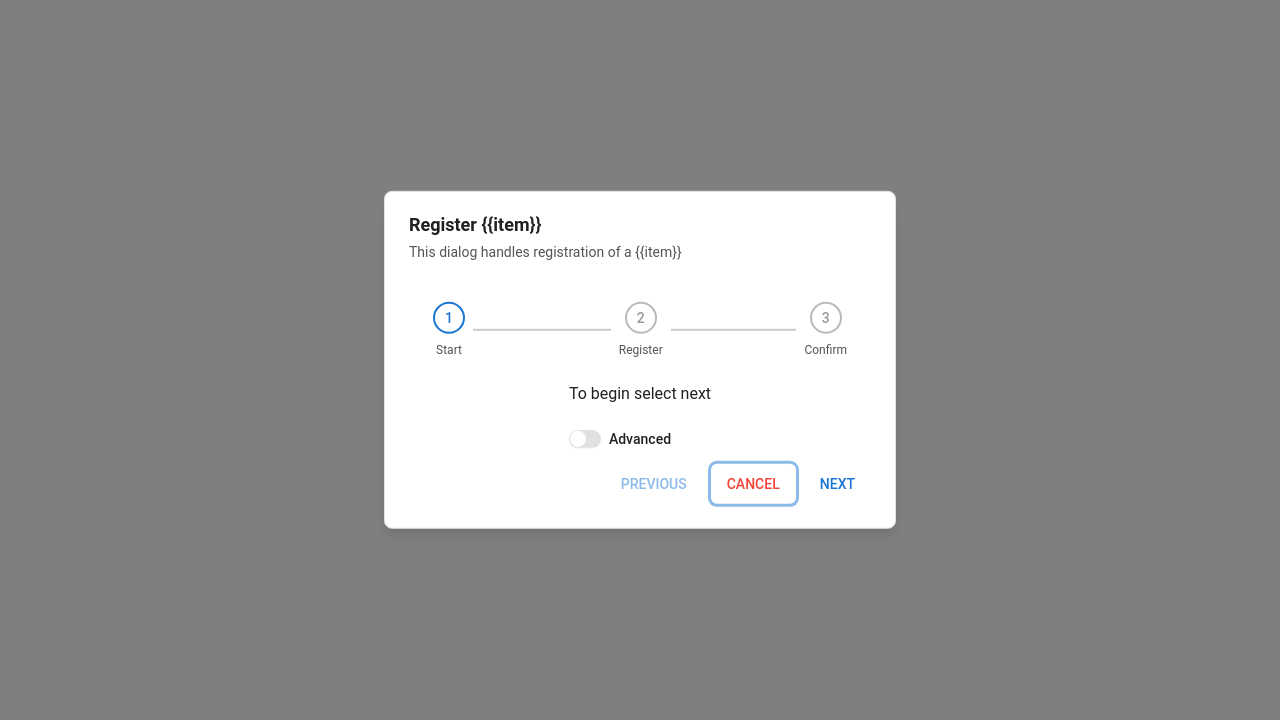
advanced options › reveals the algorithm, length and period pickers
Expected: the text "To begin select next" is shown, [569,382,711,406]
Click the switch with id "one-time-password-advanced".
click(585, 439)  # box [569,430,601,448]
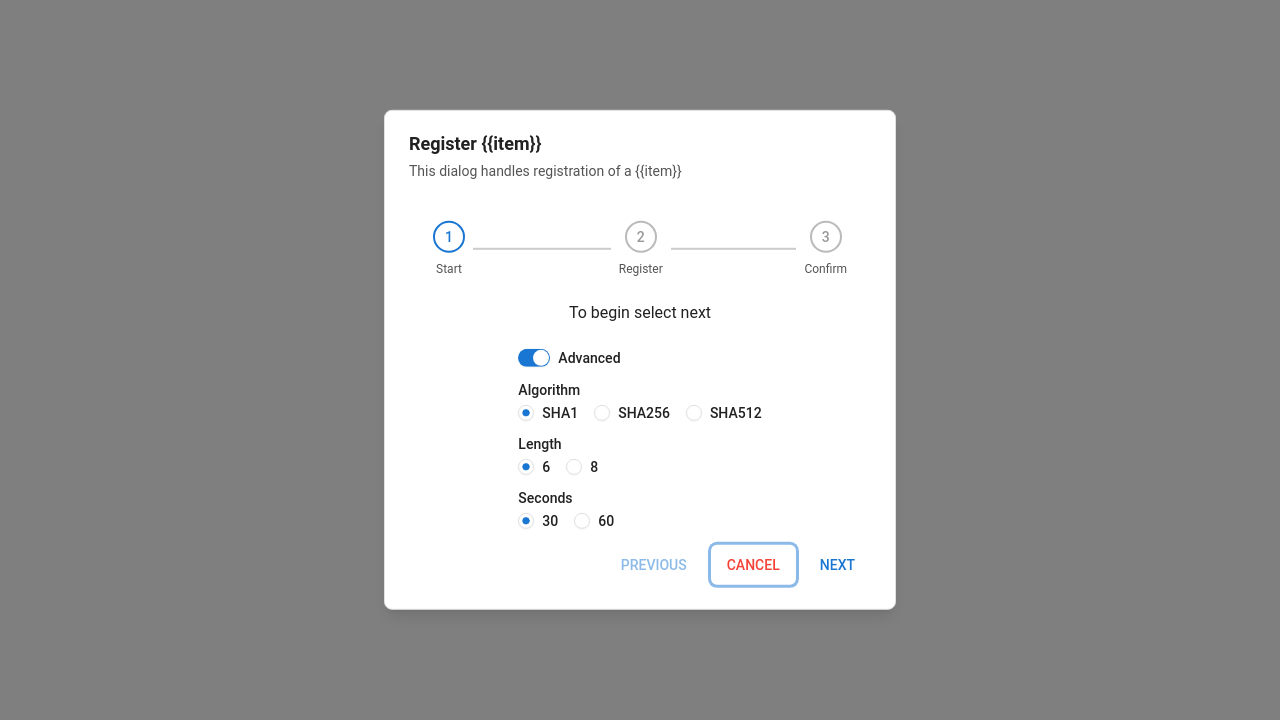
Now the radio button with id "one-time-password-algorithm-SHA256" is shown, box [594,405,610,421]
Now the radio button with id "one-time-password-length-8" is shown, box [566,459,582,475]
Now the radio button with id "one-time-password-period-60" is shown, box [574,513,590,529]
